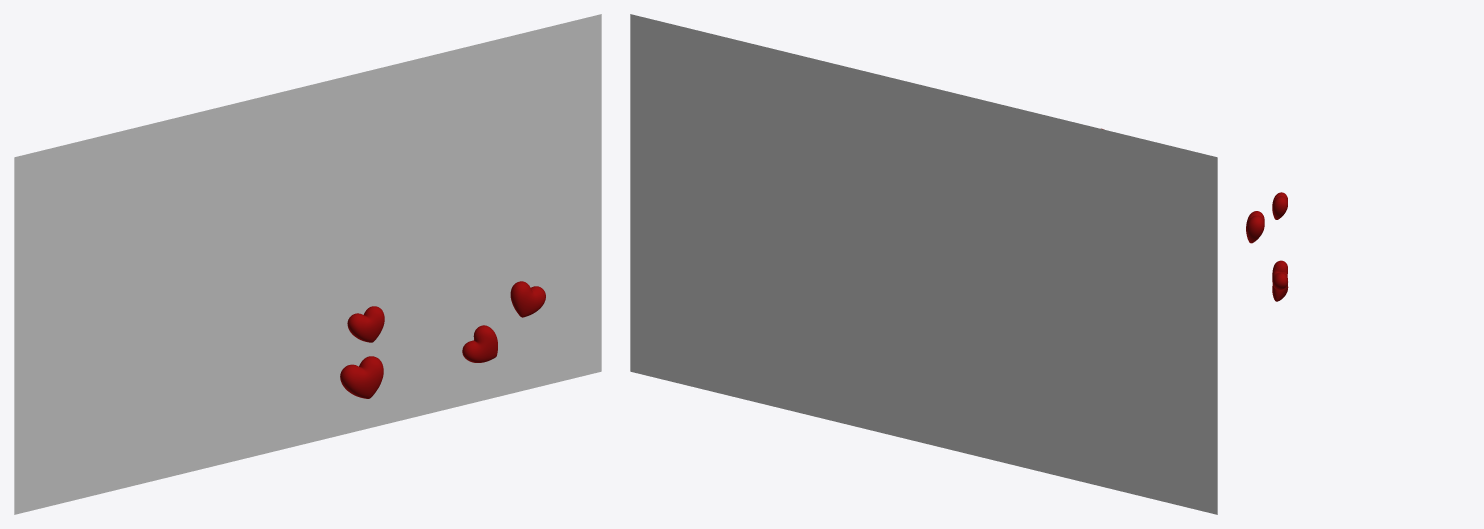
The model's file is section_1backup2.glb.
3 views of the same model, side by side, from view 1: azimuth 30°, elevation 25°; view 2: azimuth 150°, elevation 25°; view 3: azimuth 270°, elevation 25° (orthographic). The views are drawn at different scales.
Parts seen in each view (by area): view 1: Dots_RightTop, LogoPart_1, LogoPart_3, LogoPart_2, LogoPart_4; view 2: Dots_RightTop; view 3: LogoPart_1, LogoPart_4, LogoPart_2.
Part boxes in pixels (box(x1,y1,x2,y2)): Dots_RightTop: box(14, 14, 601, 514); LogoPart_1: box(340, 356, 383, 398); LogoPart_3: box(462, 325, 497, 362); LogoPart_2: box(347, 306, 384, 342); LogoPart_4: box(510, 281, 545, 317); Dots_RightTop: box(630, 14, 1217, 514); LogoPart_1: box(1246, 211, 1264, 243); LogoPart_4: box(1272, 260, 1287, 289); LogoPart_2: box(1272, 192, 1287, 219).
Size of the model in its own units: 12.4 by 7.21 by 5.27.
